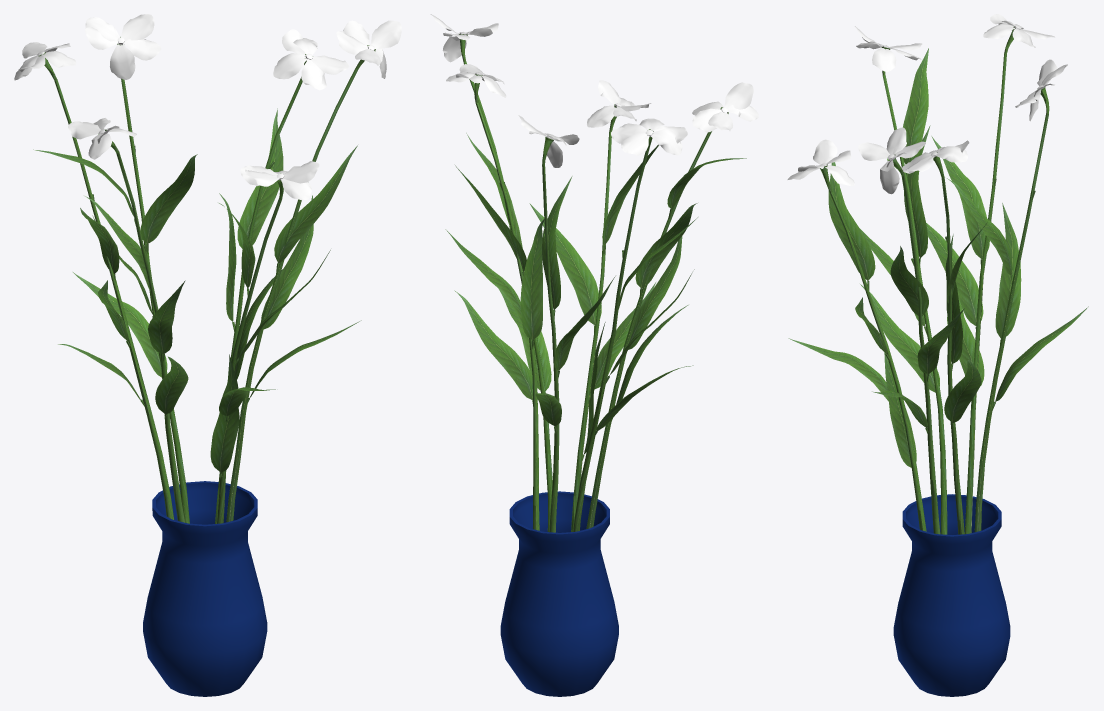
File: Flowers 2.FBX
3 renders of one model, left to right at view 1: azimuth 30°, elevation 25°; view 2: azimuth 150°, elevation 25°; view 3: azimuth 270°, elevation 25°, orthographic. The views are drawn at different scales.
Visible parts, largest first — view 1: Flowers 2; view 2: Flowers 2; view 3: Flowers 2.
Part boxes in pixels (bbox=[...]): Flowers 2: bbox=[14, 14, 401, 696]; Flowers 2: bbox=[430, 14, 758, 696]; Flowers 2: bbox=[787, 14, 1088, 696].
Bounding box in the file's own units: 20.59 × 36.01 × 16.43.
Materials: 3 (2 with a texture image).
